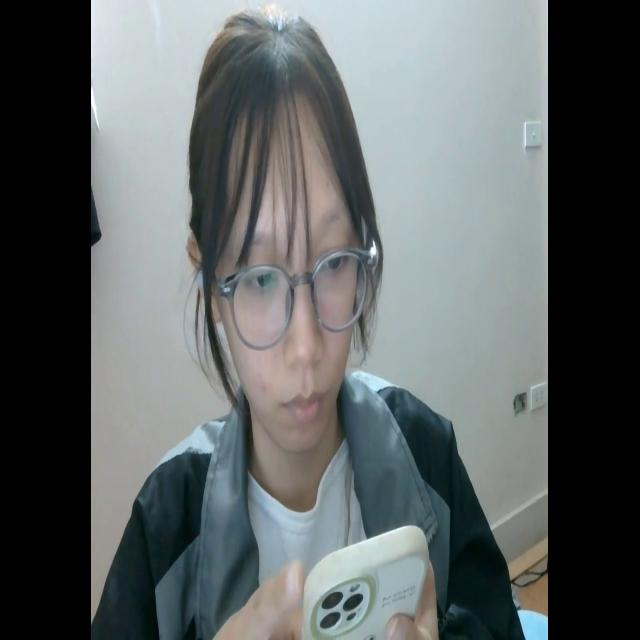phone: (298, 525, 428, 638)
student: (98, 10, 523, 640)
